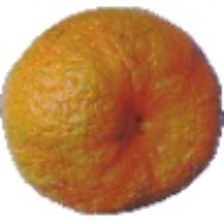tangerine: (1, 35, 183, 217)
